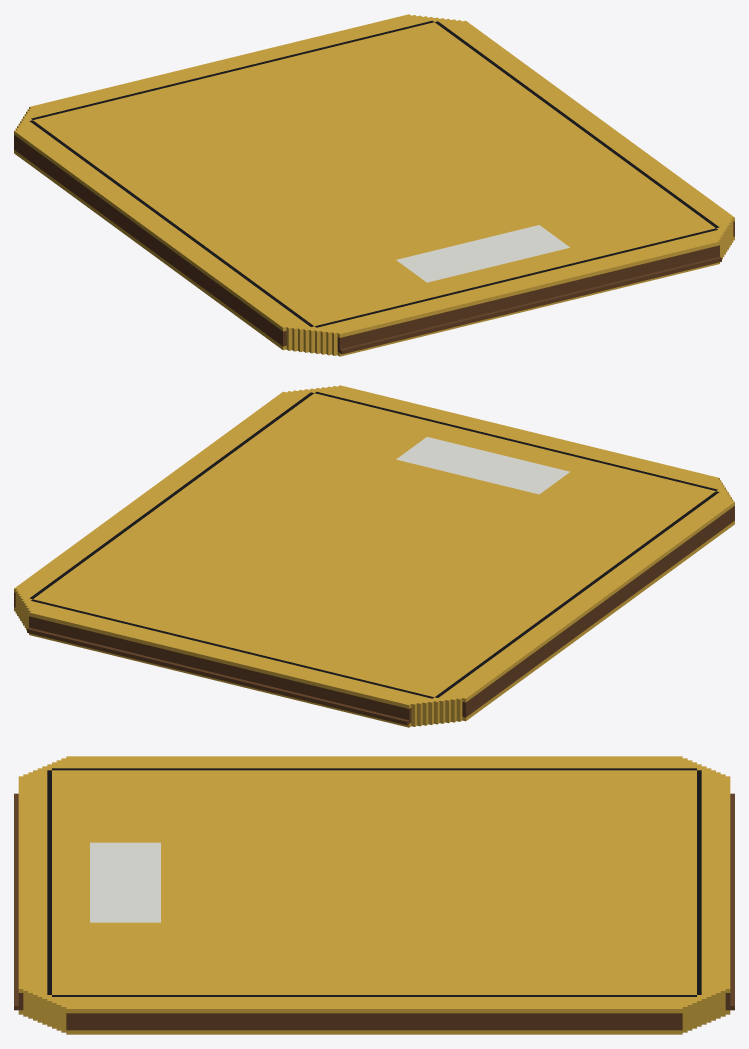
Rendered from sheet_kevlar_layered.glb.
The picture shows the model from 3 angles, top to bottom: view 1: azimuth 30°, elevation 25°; view 2: azimuth 150°, elevation 25°; view 3: azimuth 270°, elevation 25°; orthographic projection. The views are drawn at different scales.
Parts seen in each view (by area): view 1: sheet_kevlar_layered:compound; view 2: sheet_kevlar_layered:compound; view 3: sheet_kevlar_layered:compound.
Boxes of the visible parts, bbox=[...] form: sheet_kevlar_layered:compound: bbox=[14, 14, 734, 356]; sheet_kevlar_layered:compound: bbox=[14, 385, 734, 727]; sheet_kevlar_layered:compound: bbox=[14, 756, 734, 1034].
Bounding box in the file's own units: 0.252 × 0.012 × 0.304.
